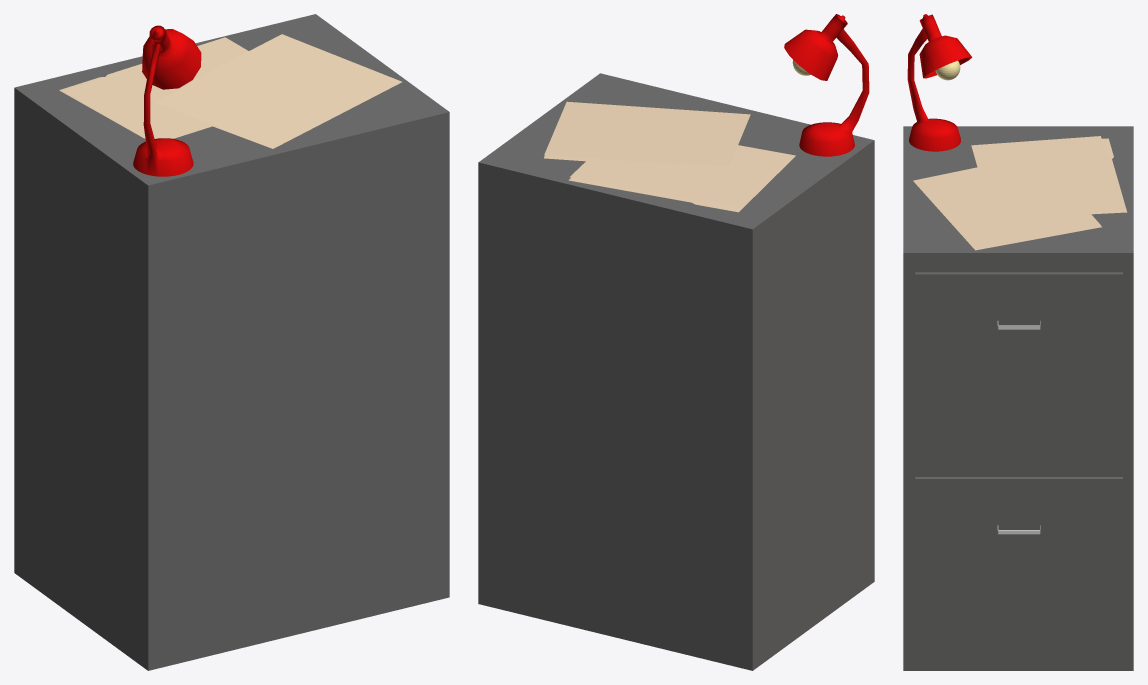
The model's file is filingCabinet.gltf.
The picture shows the model from 3 angles, left to right: view 1: azimuth 30°, elevation 25°; view 2: azimuth 150°, elevation 25°; view 3: azimuth 270°, elevation 25°; orthographic projection. The views are drawn at different scales.
Visible parts, largest first — view 1: body, folder02, folder01, lamp; view 2: body, folder02, folder01, lamp; view 3: drawer top, drawer bot, body, folder02, folder01, lamp.
Part boxes in pixels (x1,y1,x2,y2): body: (14, 14, 449, 670); folder02: (150, 34, 401, 148); folder01: (59, 37, 248, 138); lamp: (133, 25, 201, 176); body: (478, 73, 874, 670); folder02: (544, 101, 750, 172); folder01: (568, 145, 795, 212); lamp: (784, 14, 869, 156); drawer top: (915, 272, 1122, 449); drawer bot: (915, 477, 1122, 654); body: (903, 126, 1133, 670); folder02: (913, 155, 1101, 250); folder01: (971, 136, 1127, 214); lamp: (907, 14, 972, 151).
Size of the model in its own units: 2.75 by 5.17 by 2.
